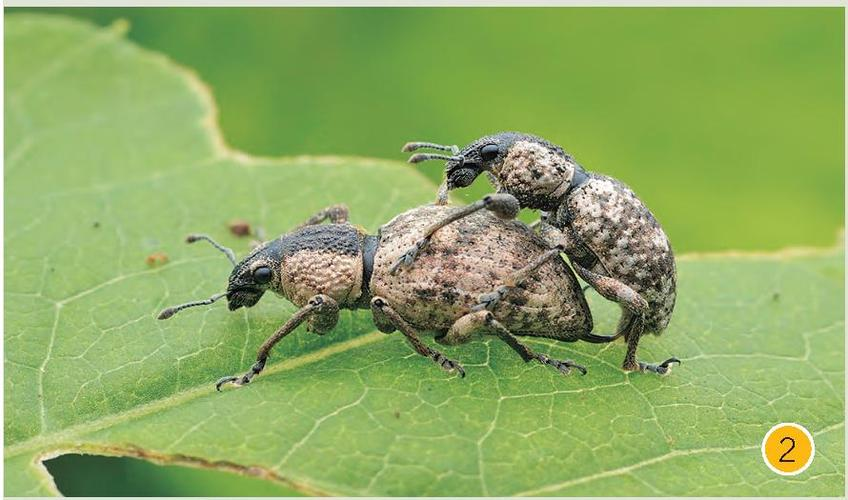Curculionidae: (154, 199, 593, 393), (402, 130, 680, 373)
